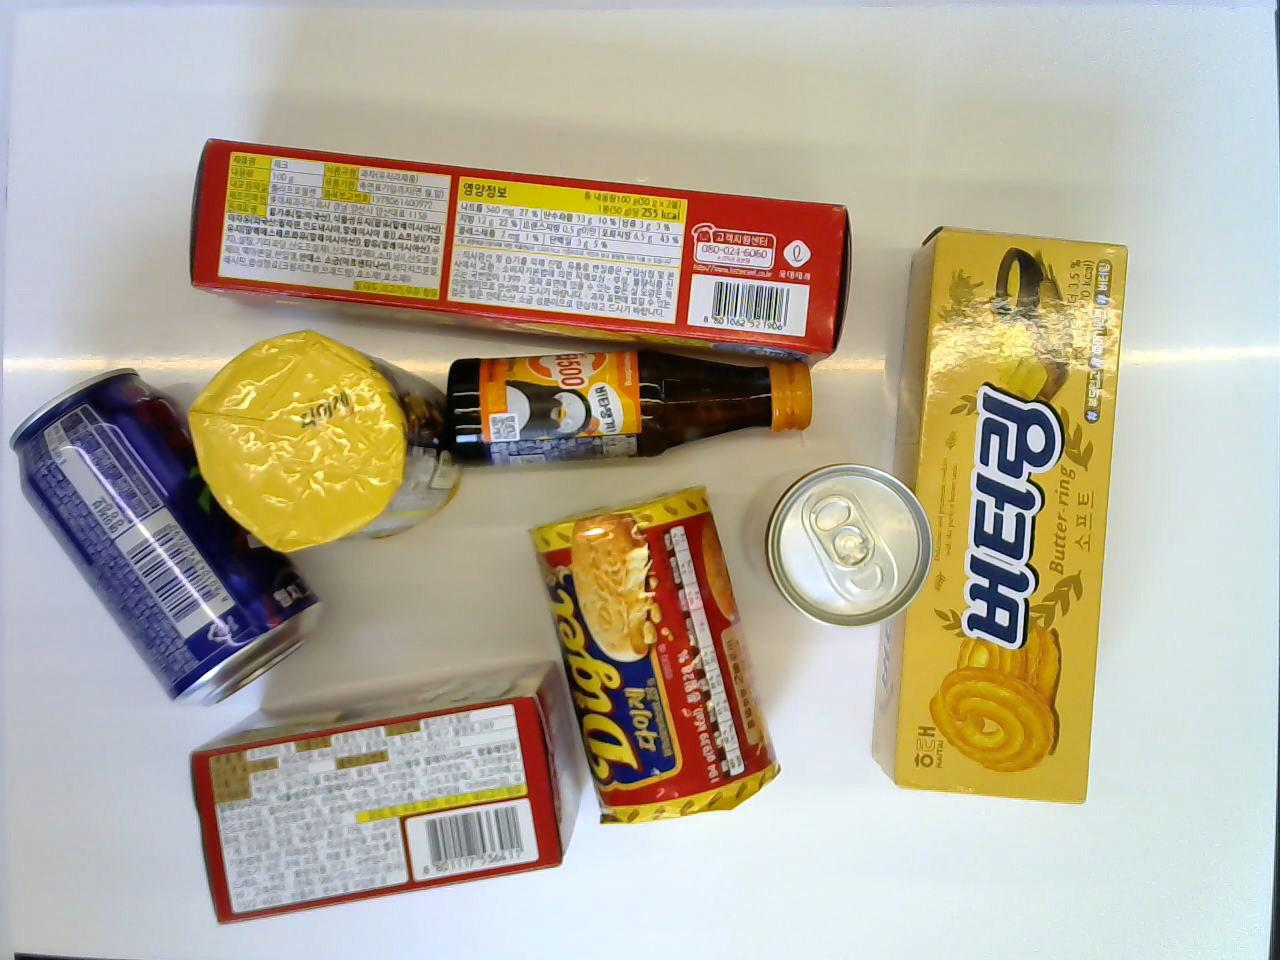buttering: (866, 224, 1130, 809)
chocopie: (183, 657, 587, 927)
coke: (741, 464, 931, 628)
diget_choco: (191, 330, 465, 556)
diget_ori: (525, 484, 785, 825)
vita500: (446, 331, 811, 467)
welchs: (10, 366, 322, 717)
zec: (185, 137, 852, 372)
